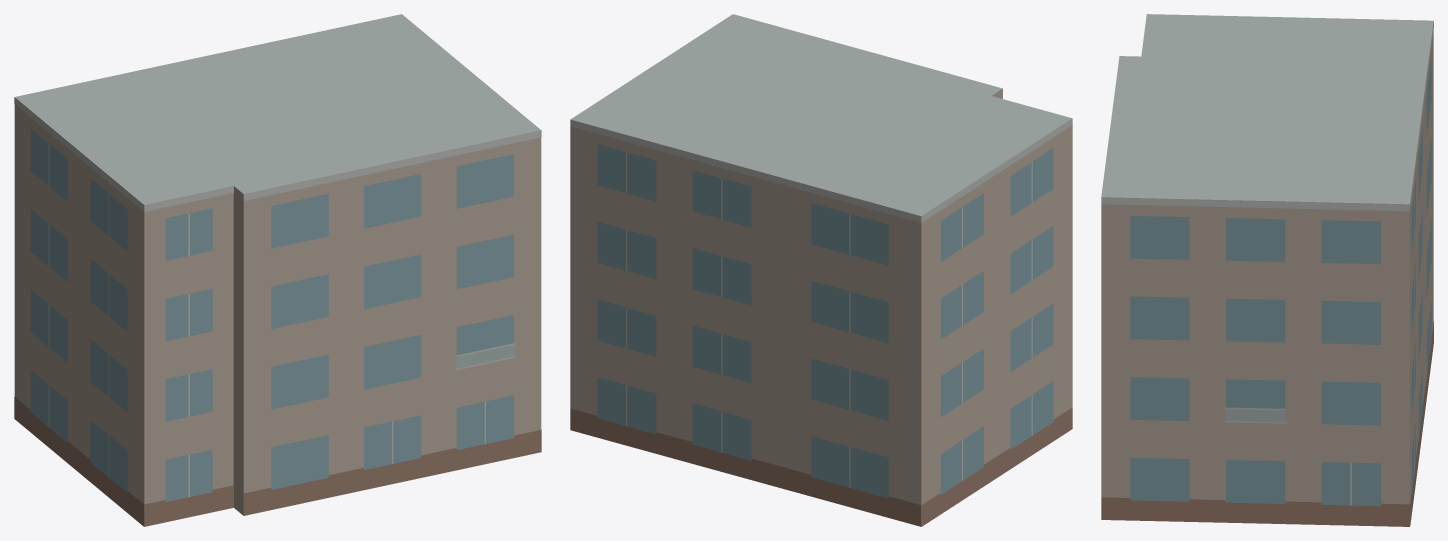
File: survey-upis-32478444.glb
3 views of the same model, side by side, from view 1: azimuth 30°, elevation 25°; view 2: azimuth 150°, elevation 25°; view 3: azimuth 270°, elevation 25° (orthographic). The views are drawn at different scales.
Parts seen in each view (by area): view 1: survey-upis-32478444.tmp; view 2: survey-upis-32478444.tmp; view 3: survey-upis-32478444.tmp.
Boxes of the visible parts, <box> form: survey-upis-32478444.tmp: <box>14,14,541,526</box>; survey-upis-32478444.tmp: <box>570,14,1072,526</box>; survey-upis-32478444.tmp: <box>1101,14,1433,526</box>.
Size of the model in its own units: 14.24 by 11.25 by 10.52.
